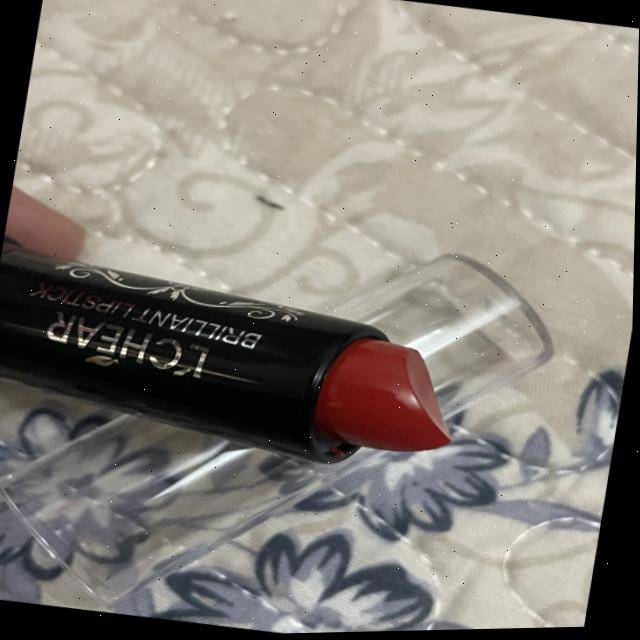lip stick: (0, 225, 521, 501)
